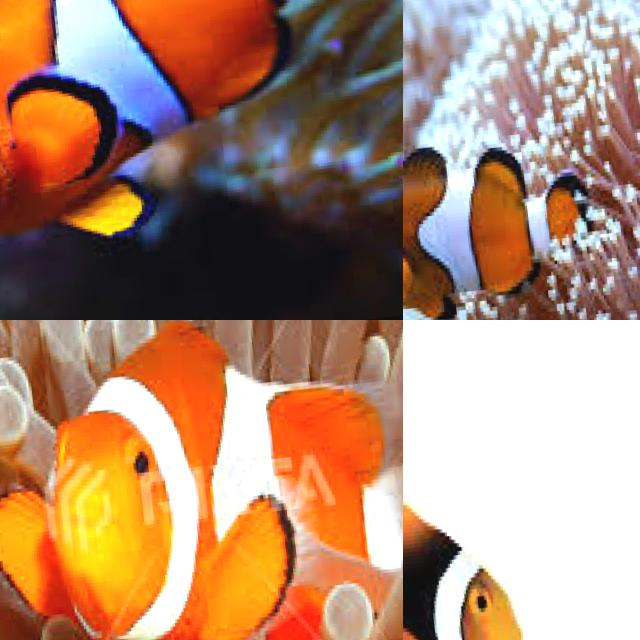Amphiprion-percula: (0, 320, 403, 640), (0, 0, 403, 283), (403, 405, 640, 640), (403, 437, 622, 640), (403, 103, 603, 320), (195, 0, 403, 80)
